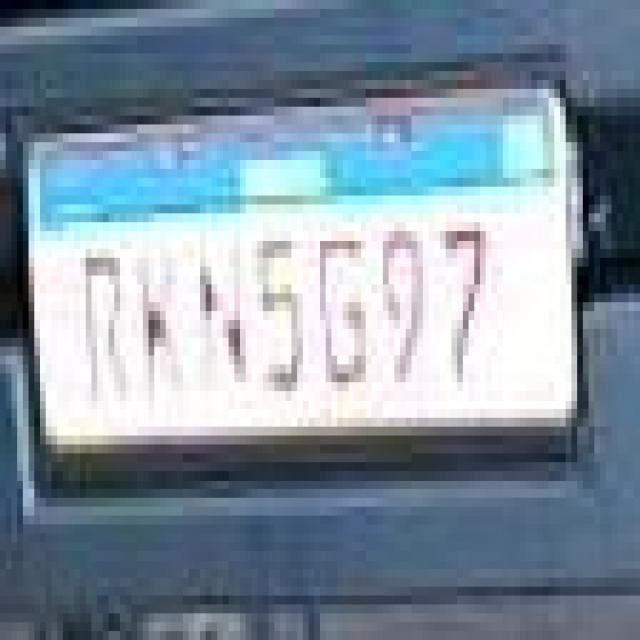5: (249, 223, 310, 399)
7: (439, 214, 494, 396)
9: (375, 219, 431, 393)
G: (316, 223, 377, 395)
K: (130, 241, 185, 416)
N: (198, 228, 245, 390)
R: (77, 240, 132, 417)
